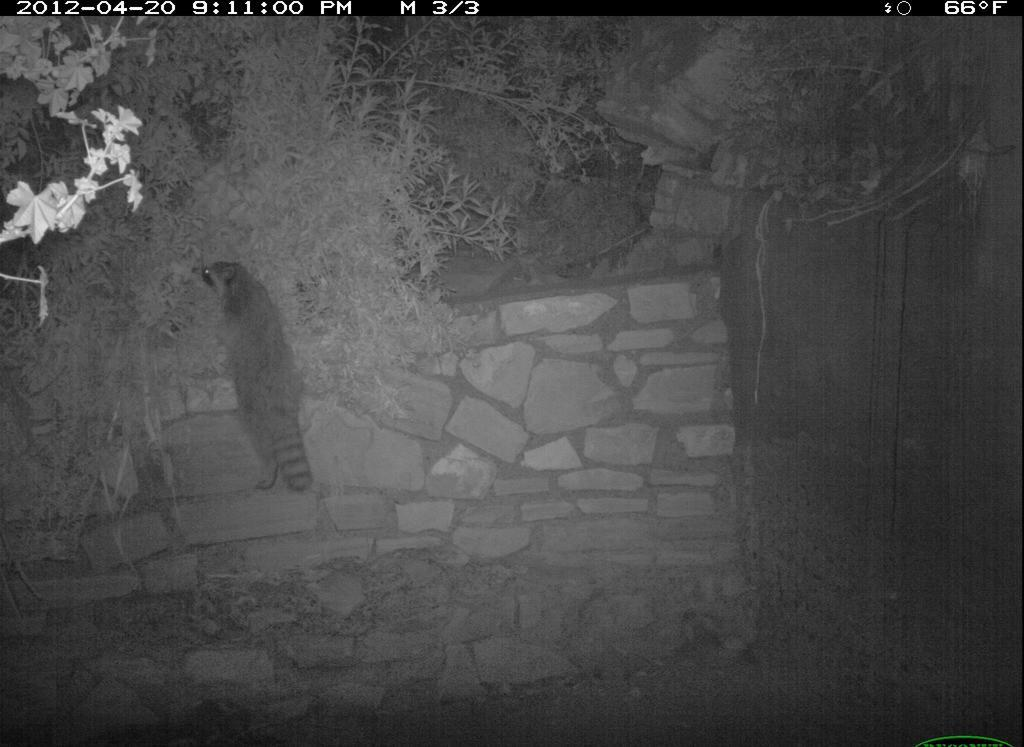raccoon: (195, 248, 336, 510)
